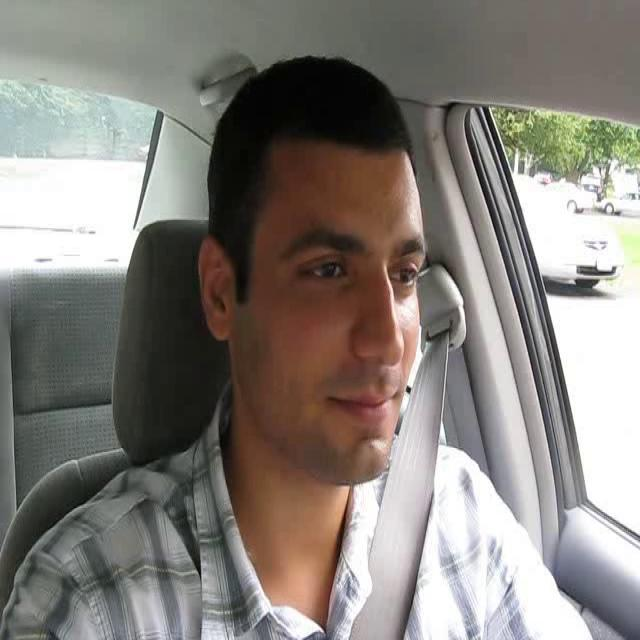close: (323, 386, 398, 426)
